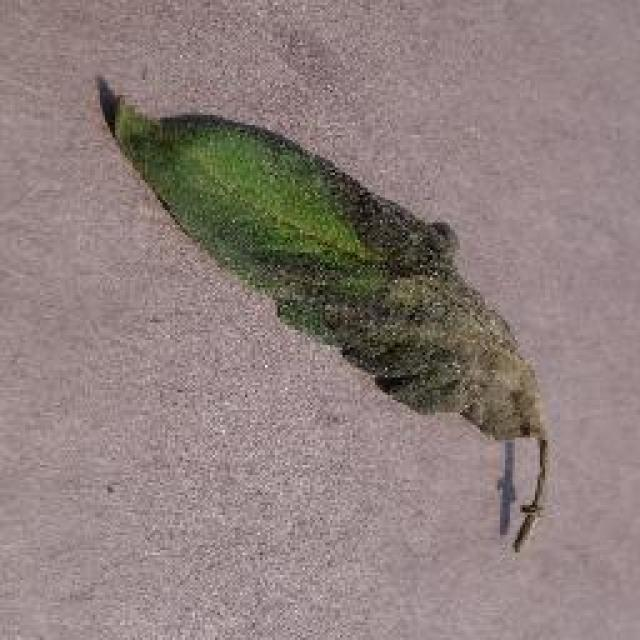Tomato late blight leaf: (90, 78, 552, 444)
